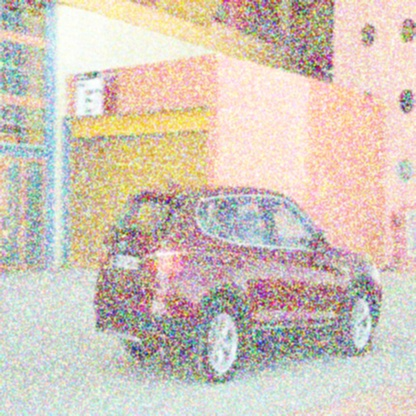Vehicle: (94, 180, 385, 387)
